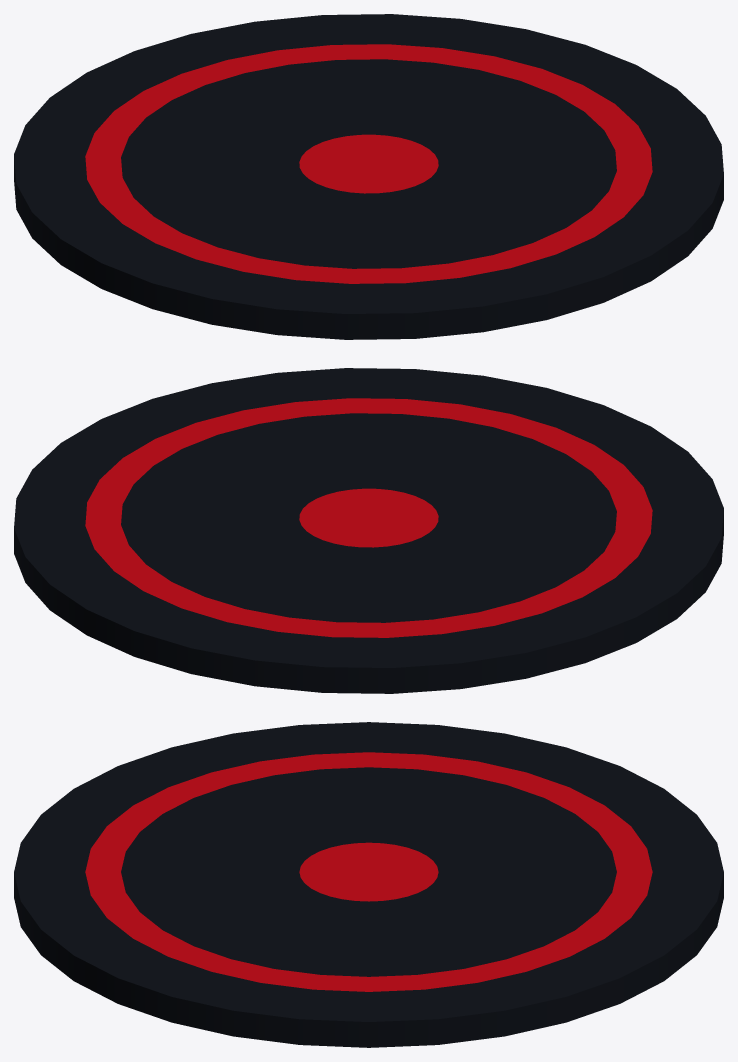
Rendered from Spawn_Red.glb.
The picture shows the model from 3 angles, top to bottom: view 1: azimuth 30°, elevation 25°; view 2: azimuth 150°, elevation 25°; view 3: azimuth 270°, elevation 25°; orthographic projection.
Parts seen in each view (by area): view 1: Spawn_Red; view 2: Spawn_Red; view 3: Spawn_Red.
Part boxes in pixels (box(x1,y1,x2,y2)): Spawn_Red: box(14, 14, 723, 339); Spawn_Red: box(14, 368, 723, 693); Spawn_Red: box(14, 722, 723, 1047).
Size of the model in its own units: 1 by 0.04 by 1.
